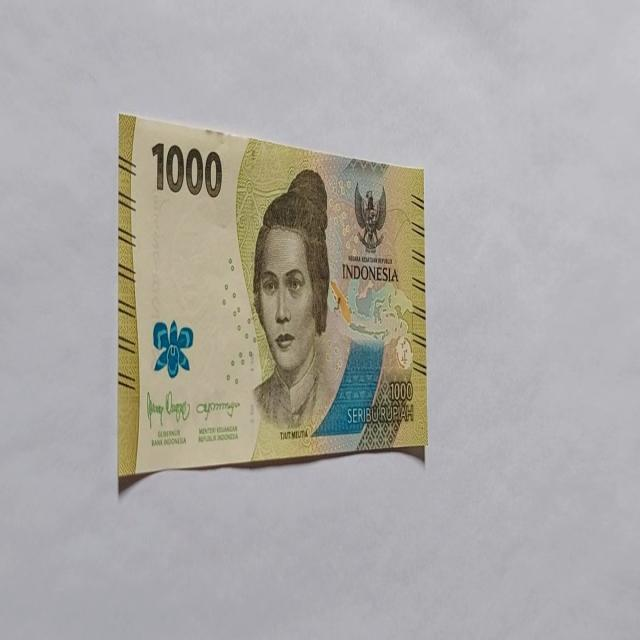seribu rupiah kertas: (117, 111, 427, 485)
